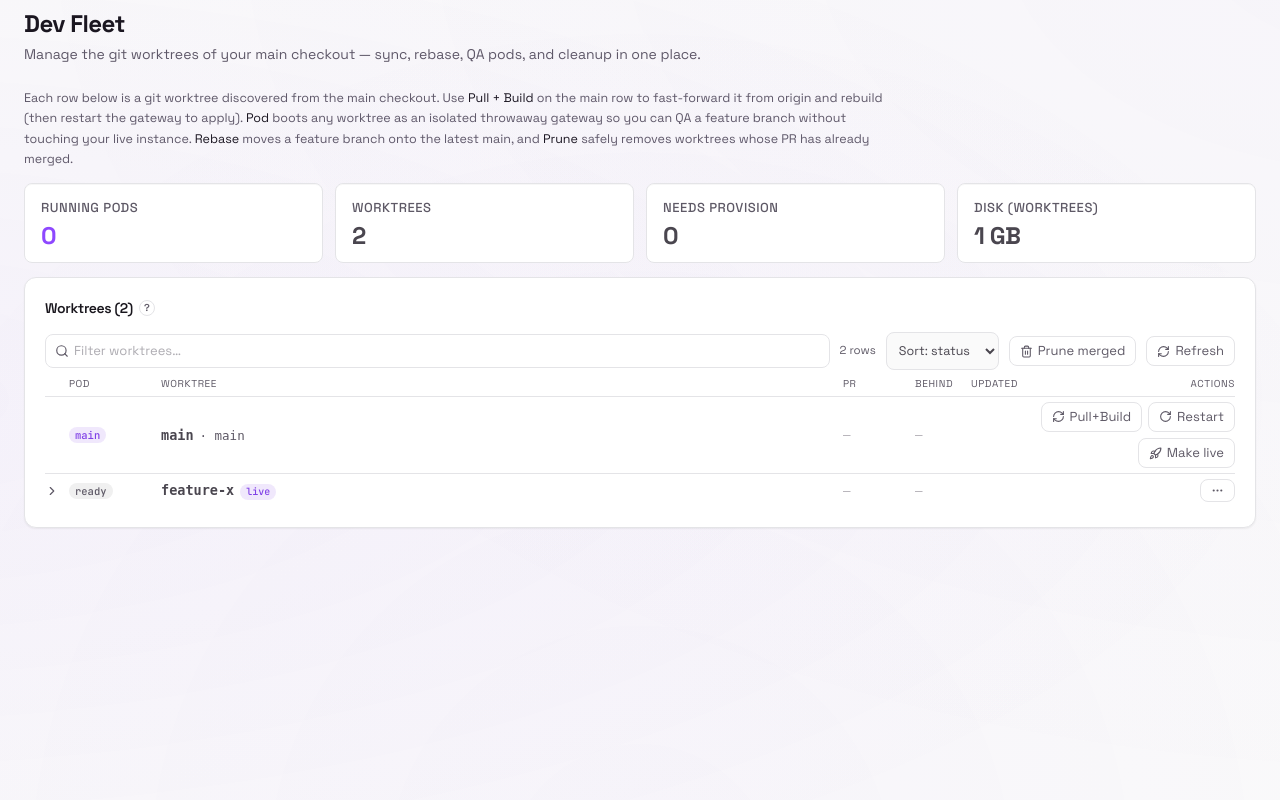
Test: DevFleetPage › shows an inline "Make live" on the MAIN row when main is NOT live (switch back after cutover)
Expected: the 1st text "main" is shown, x1=69 y1=427 x2=106 y2=443
Click the button "Make live".
click(1186, 453)  # box x1=1138 y1=438 x2=1235 y2=468
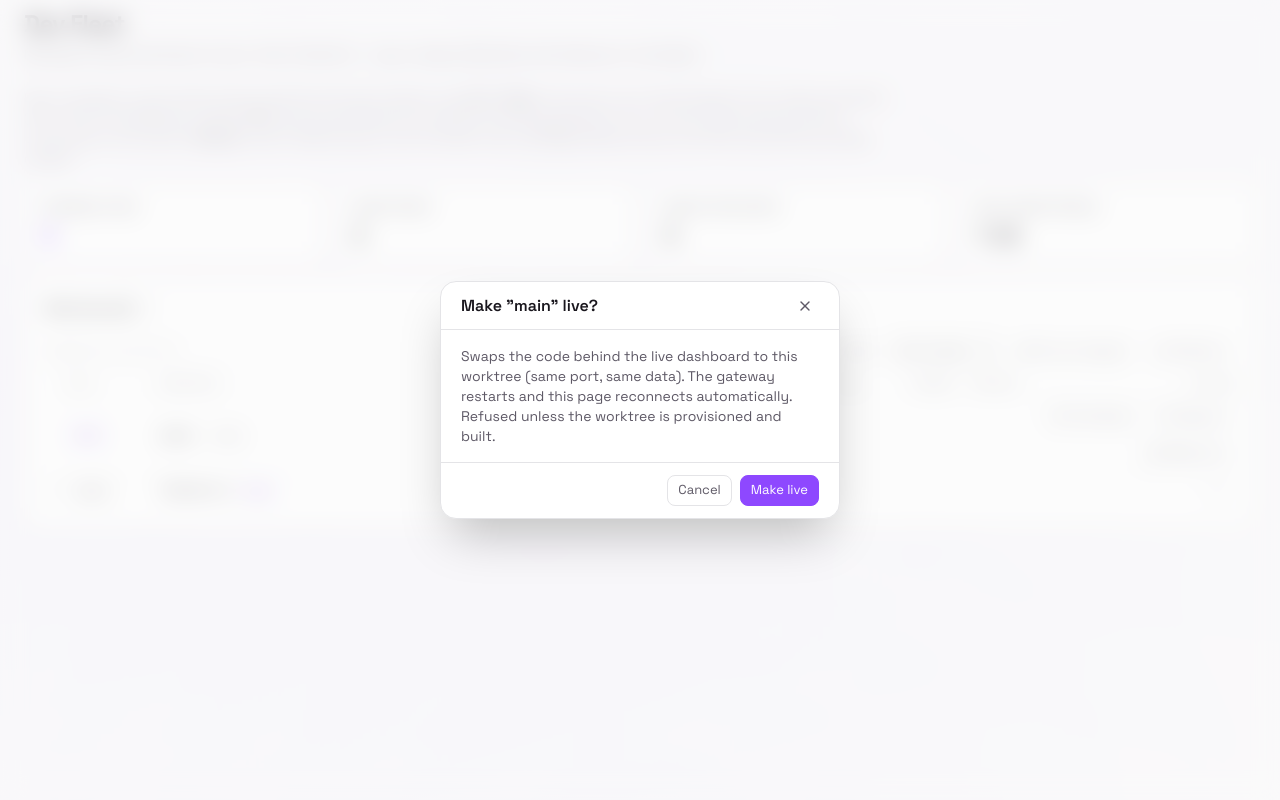
Now the dialog is shown, box x1=440 y1=281 x2=840 y2=518
Now the text "Make \"main\" live?" is shown, box x1=461 y1=294 x2=598 y2=318
